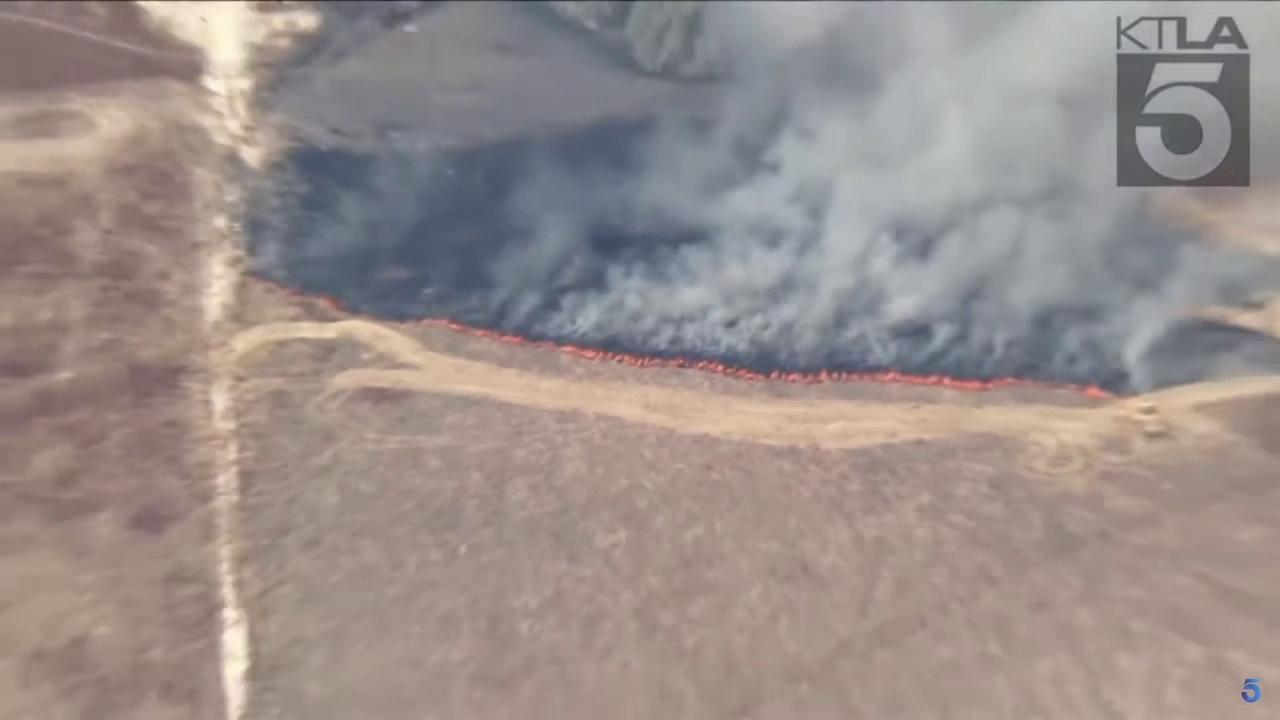fire: (417, 315, 1125, 403)
smoke: (242, 0, 1280, 397)
